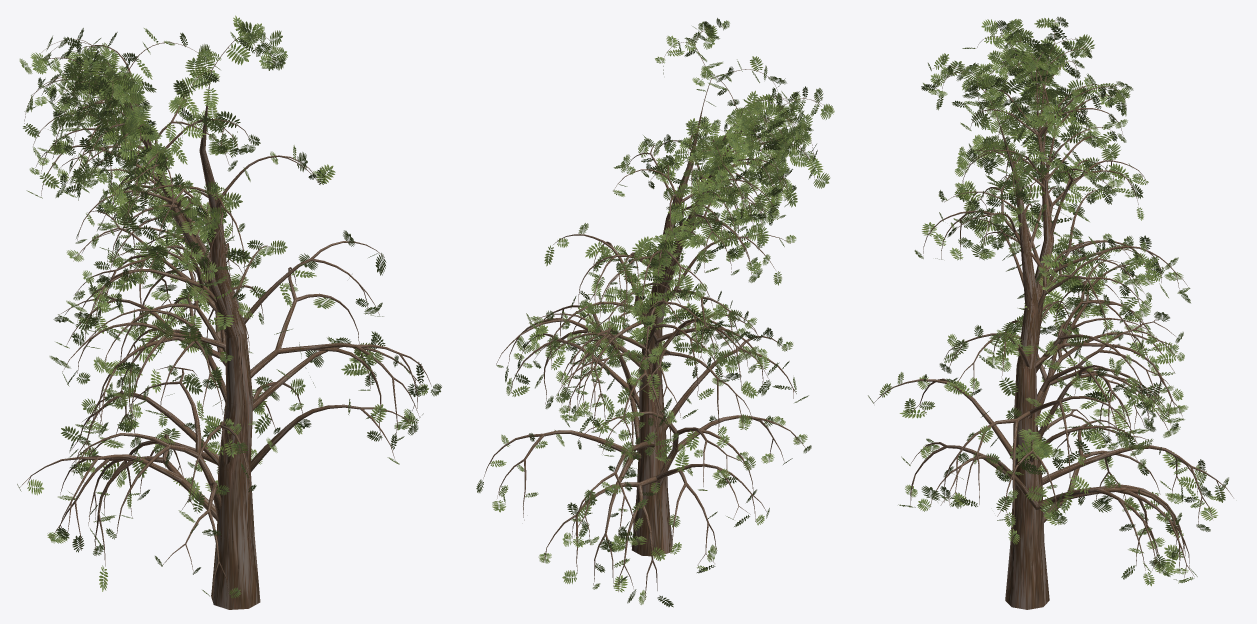
The model's file is Amazonie_Arbre_13.fbx.
The picture shows the model from 3 angles, left to right: view 1: azimuth 30°, elevation 25°; view 2: azimuth 150°, elevation 25°; view 3: azimuth 270°, elevation 25°; orthographic projection. The views are drawn at different scales.
Visible parts, largest first — view 1: Plane.001, tree; view 2: Plane.001, tree; view 3: Plane.001, tree.
Part boxes in pixels (left/top/right/bottom): Plane.001: left=17, top=15, right=441, bottom=598; tree: left=20, top=34, right=431, bottom=609; Plane.001: left=476, top=18, right=834, bottom=607; tree: left=483, top=26, right=832, bottom=600; Plane.001: left=868, top=17, right=1228, bottom=586; tree: left=874, top=20, right=1233, bottom=609.
Bounding box in the file's own units: 919 × 1445 × 901.
